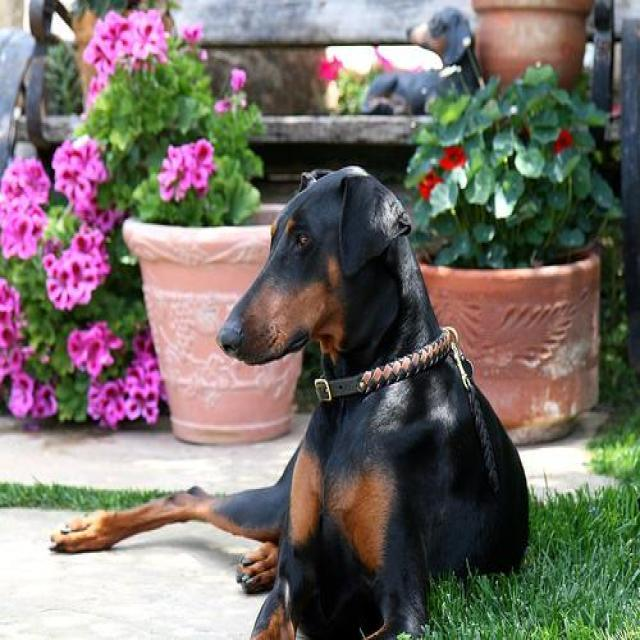adult_dog: (50, 165, 531, 640)
